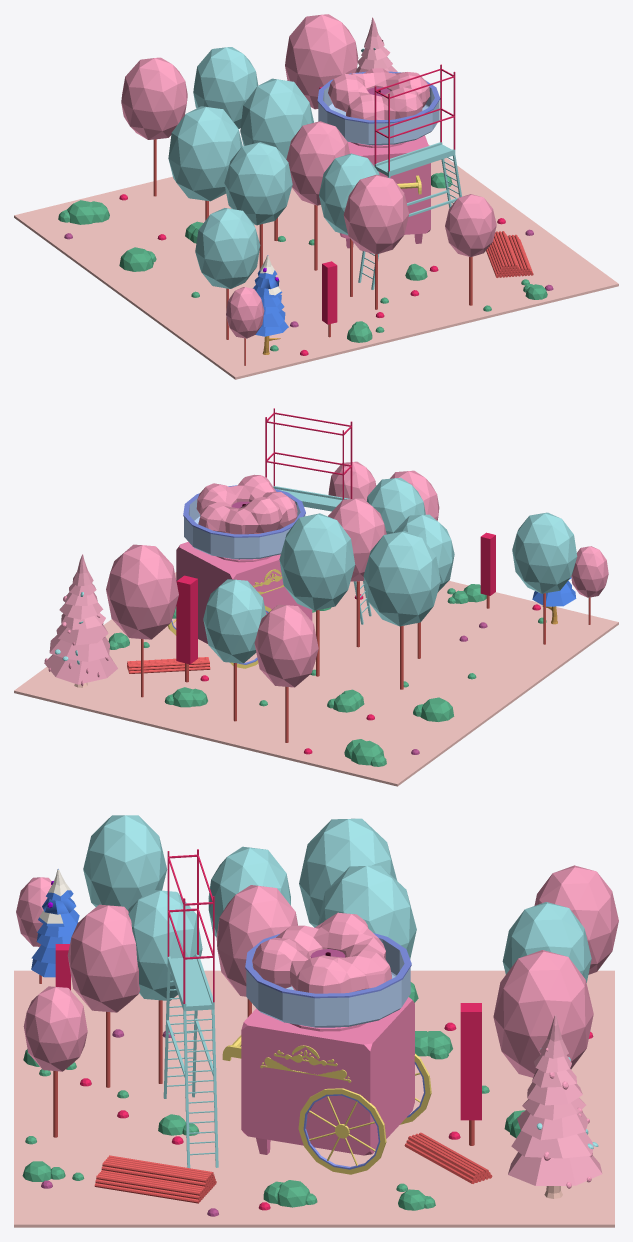
File: D2_CANDY_FACTORY_2.fbx
The picture shows the model from 3 angles, top to bottom: view 1: azimuth 30°, elevation 25°; view 2: azimuth 150°, elevation 25°; view 3: azimuth 270°, elevation 25°; orthographic projection. The views are drawn at different scales.
Parts seen in each view (by area): view 1: D2_COTTON_CANDY; view 2: D2_COTTON_CANDY; view 3: D2_COTTON_CANDY.
Boxes of the visible parts, bbox=[...] form: D2_COTTON_CANDY: bbox=[14, 14, 618, 379]; D2_COTTON_CANDY: bbox=[14, 408, 618, 786]; D2_COTTON_CANDY: bbox=[14, 815, 618, 1227].
Size of the model in its own units: 1510 by 726 by 1520.
21 materials, 1 textured.
